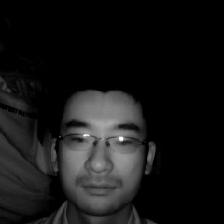normal: (45, 80, 157, 216)
